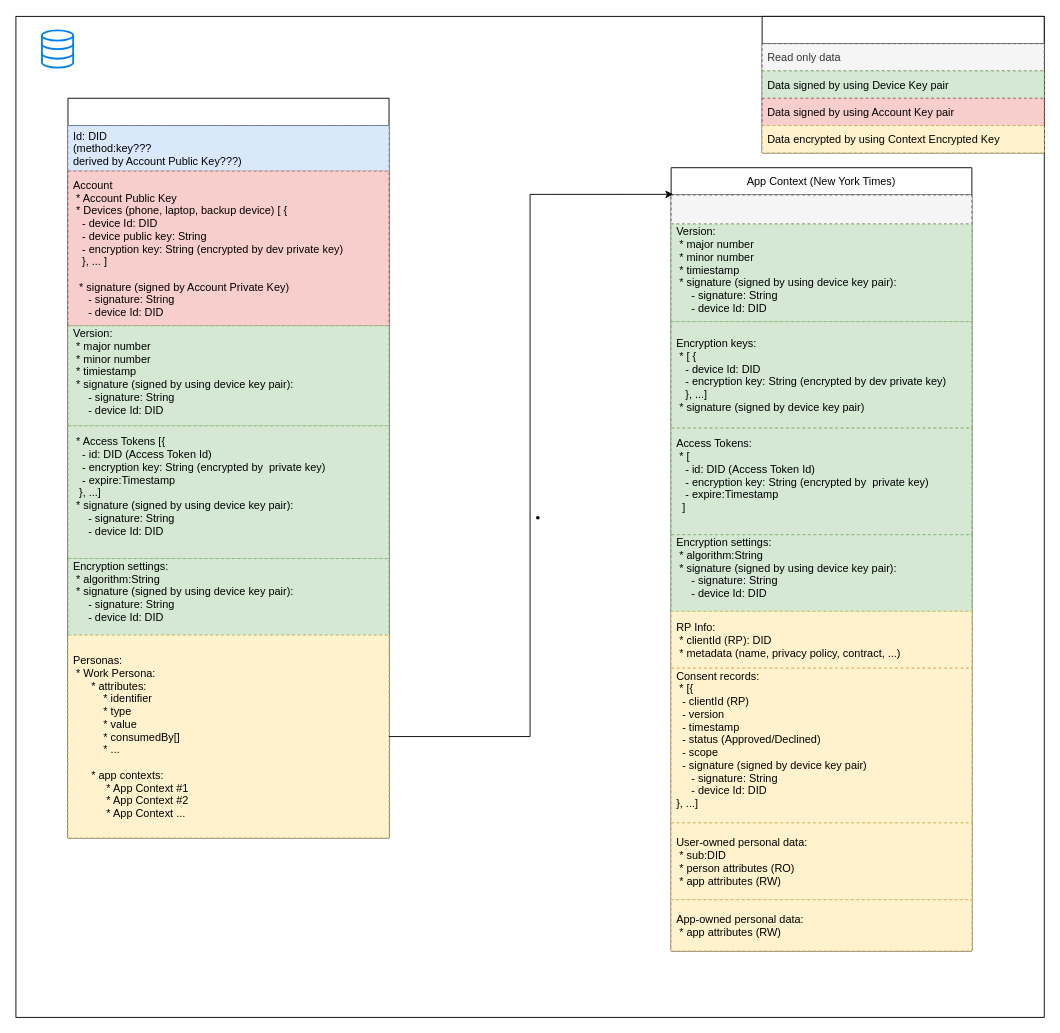
This 1060x1033 diagram has some shape labels left out. Here are the shapes that lost their labels. From the top down, the box of each, then its label:
(761, 15, 1044, 153): Legend
(670, 194, 972, 224): Id: DID
(67, 97, 389, 838): Self
